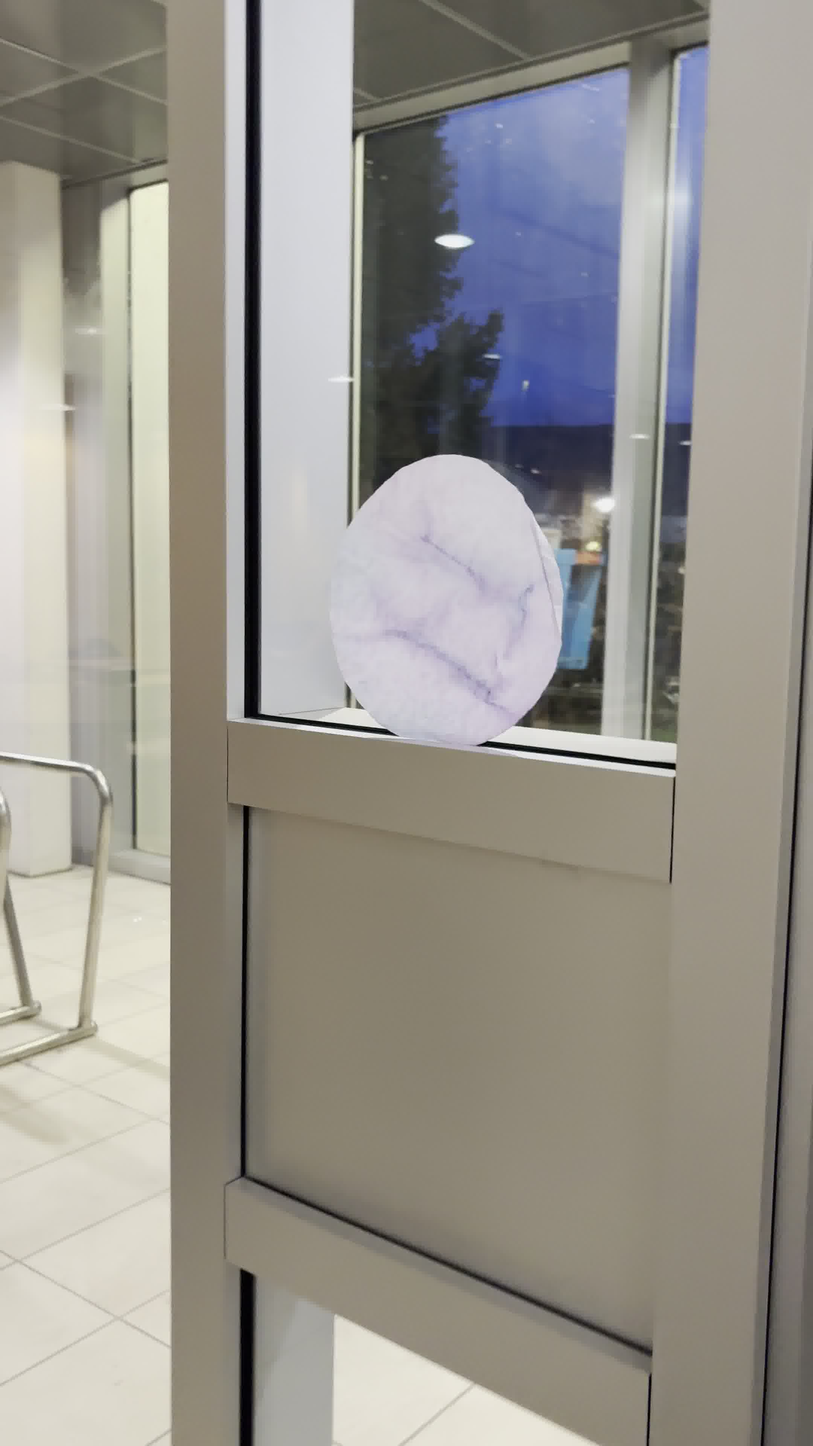Target: (328, 451, 566, 750)
